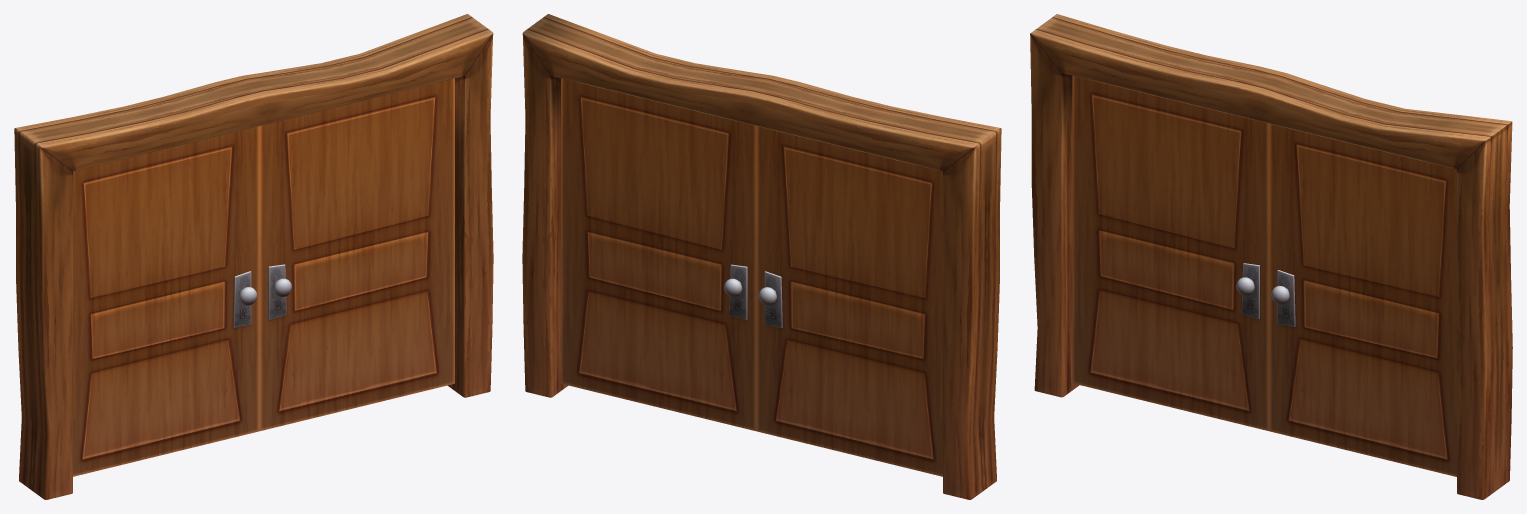
File: PropDoor01TypeB.FBX
3 renders of one model, left to right at view 1: azimuth 30°, elevation 25°; view 2: azimuth 150°, elevation 25°; view 3: azimuth 330°, elevation 25°, orthographic.
Parts seen in each view (by area): view 1: DoorR, DoorL, Frame; view 2: DoorR, DoorL, Frame; view 3: DoorL, DoorR, Frame.
Boxes of the visible parts, <box> form: DoorR: <box>259,78,454,430</box>; DoorL: <box>73,126,259,476</box>; Frame: <box>14,14,493,499</box>; DoorR: <box>561,78,756,430</box>; DoorL: <box>756,126,942,476</box>; Frame: <box>522,14,1001,499</box>; DoorL: <box>1072,75,1268,430</box>; DoorR: <box>1269,123,1456,476</box>; Frame: <box>1030,14,1512,499</box>.
Size of what is drawn, in the model's own units: 3.25 by 2.45 by 0.3454.
